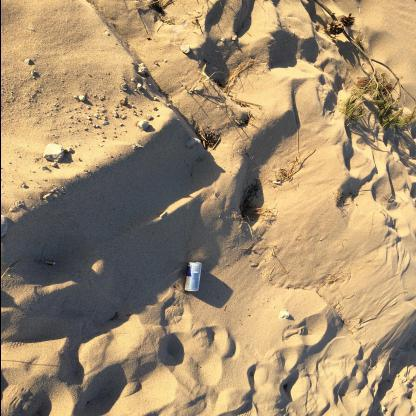metal: (185, 263, 203, 293)
